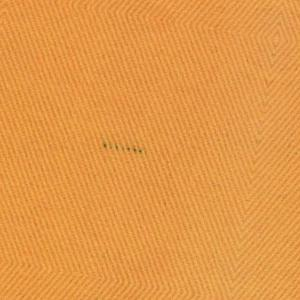stain: (95, 135, 151, 160)
